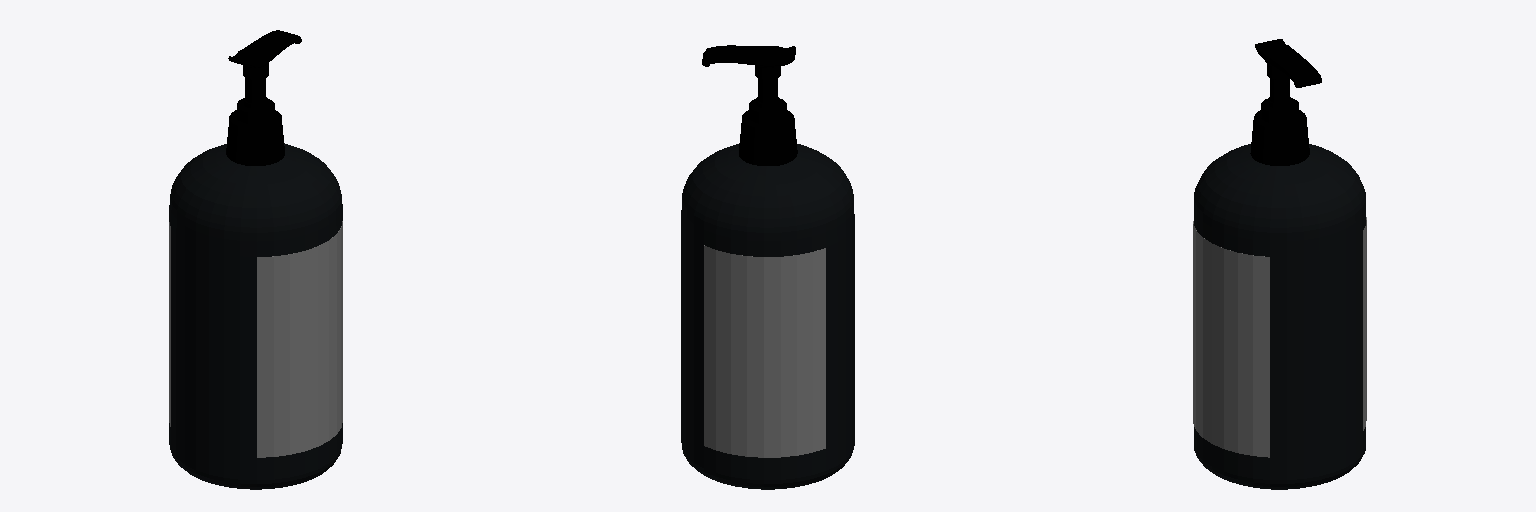
The model's file is demo.obj.
3 views of the same model, side by side, from view 1: azimuth 30°, elevation 25°; view 2: azimuth 150°, elevation 25°; view 3: azimuth 270°, elevation 25° (orthographic).
Parts seen in each view (by area): view 1: 3333_4.002; view 2: 3333_4.002; view 3: 3333_4.002.
Part boxes in pixels (left/top/right/bottom): 3333_4.002: left=169, top=30, right=342, bottom=489; 3333_4.002: left=681, top=45, right=854, bottom=489; 3333_4.002: left=1193, top=39, right=1366, bottom=489.
Bounding box in the file's own units: 8.79 × 23.01 × 8.81.